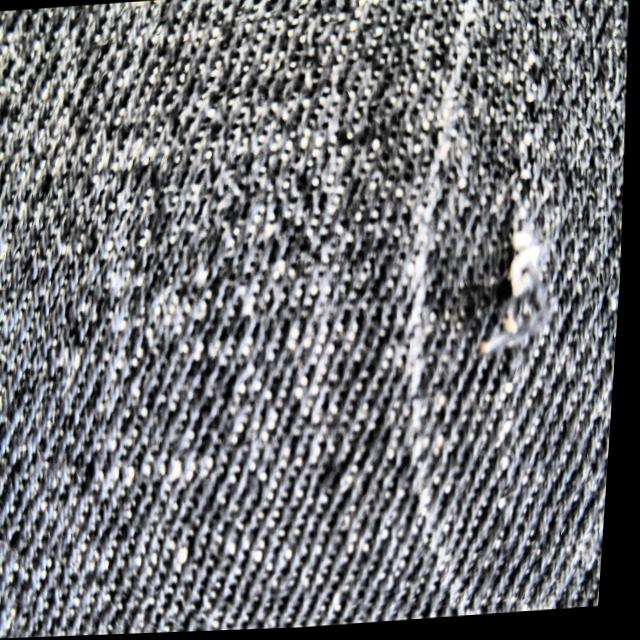Hole: (467, 221, 569, 375), (478, 239, 558, 365)
